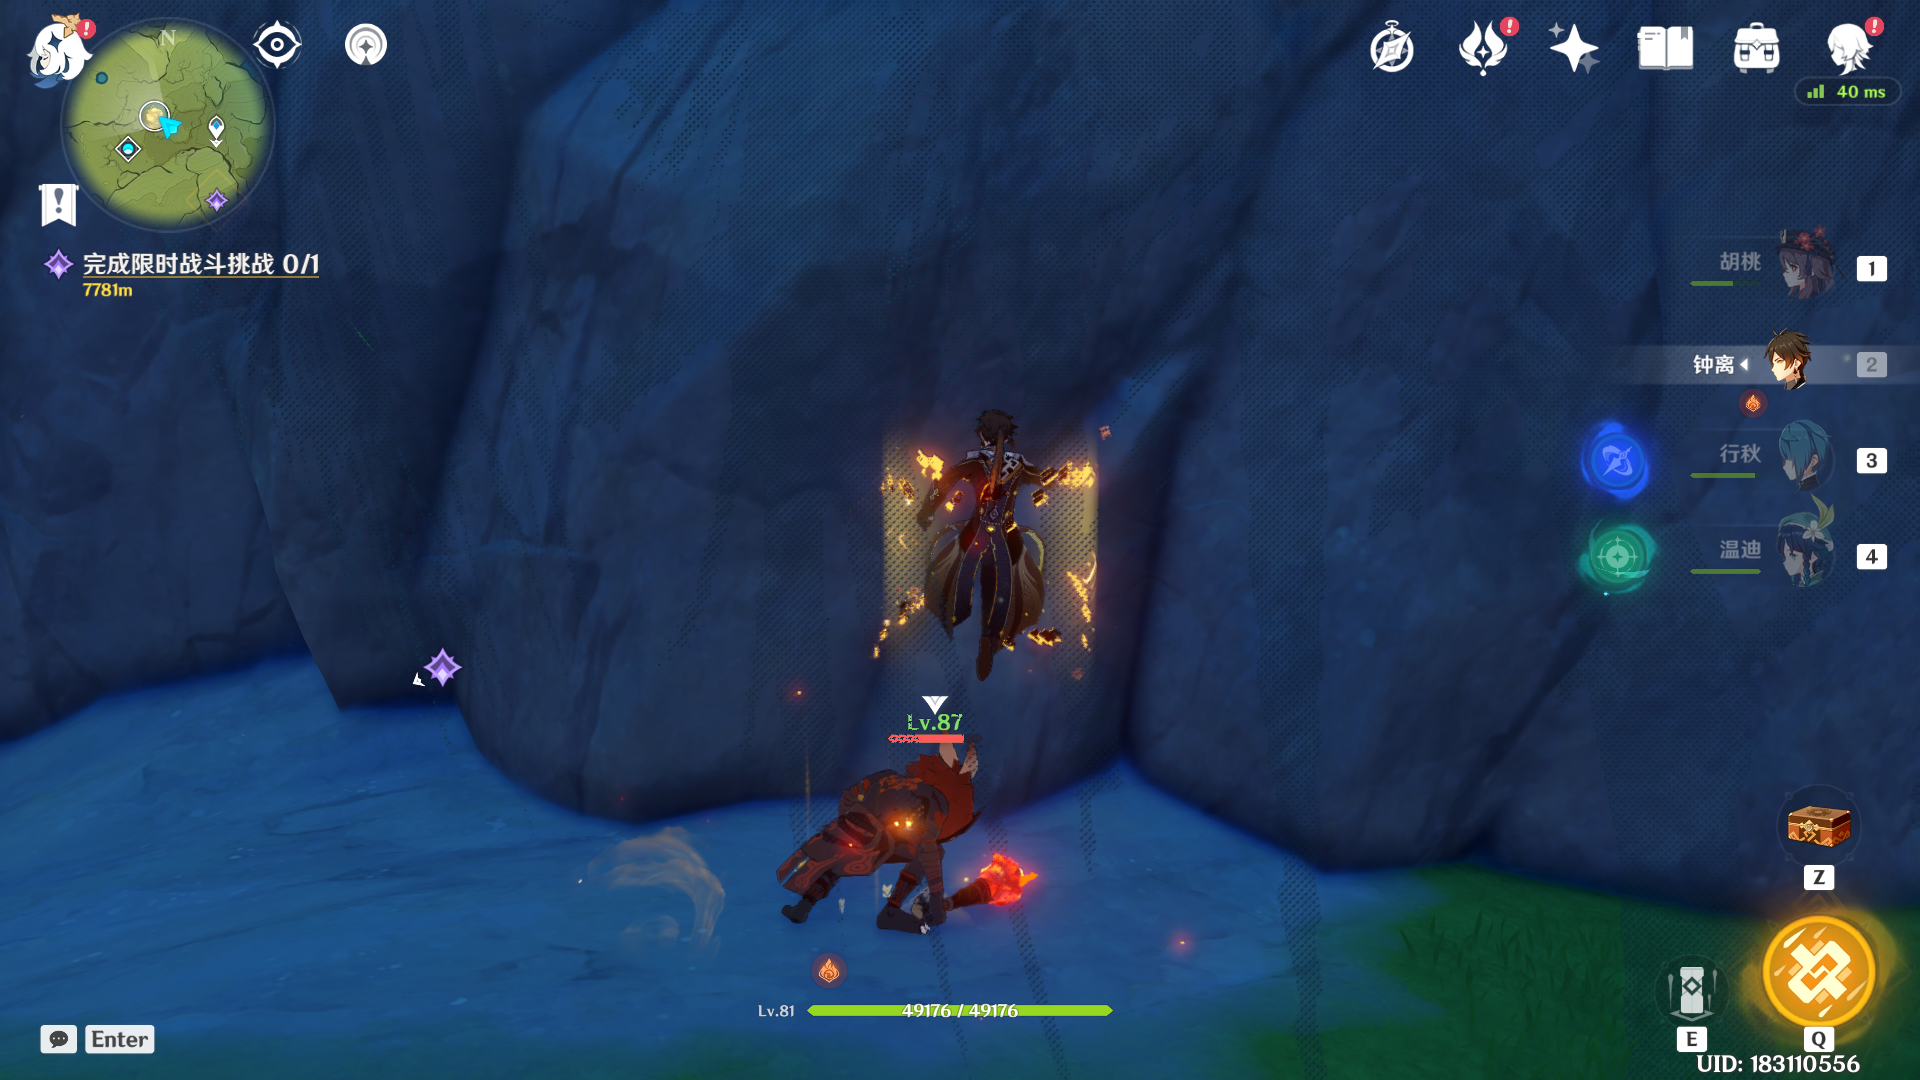character: (816, 371, 1124, 684)
hili: (771, 696, 1073, 949)
